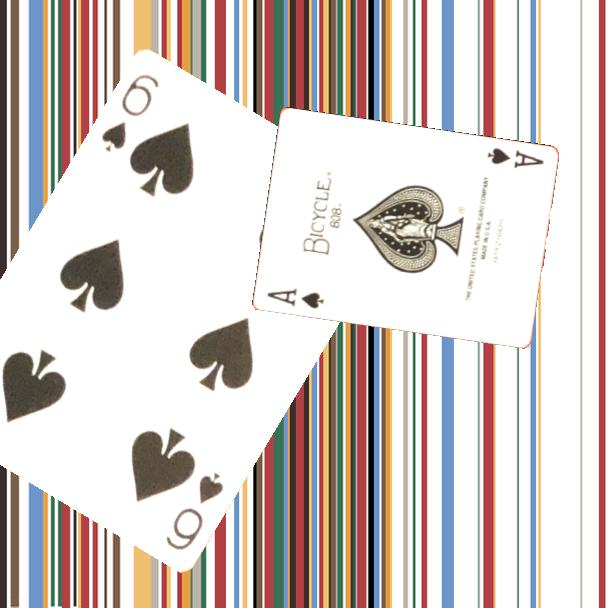s01: (263, 285, 326, 312), (484, 145, 546, 172)
s06: (97, 69, 162, 154), (162, 468, 227, 553)
